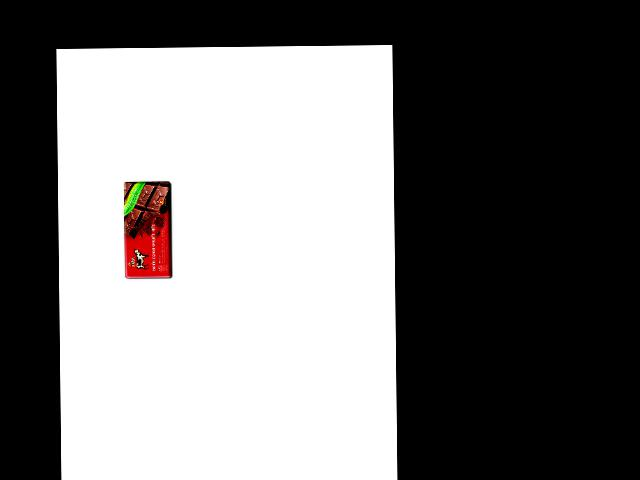chocolate: (122, 181, 176, 281)
